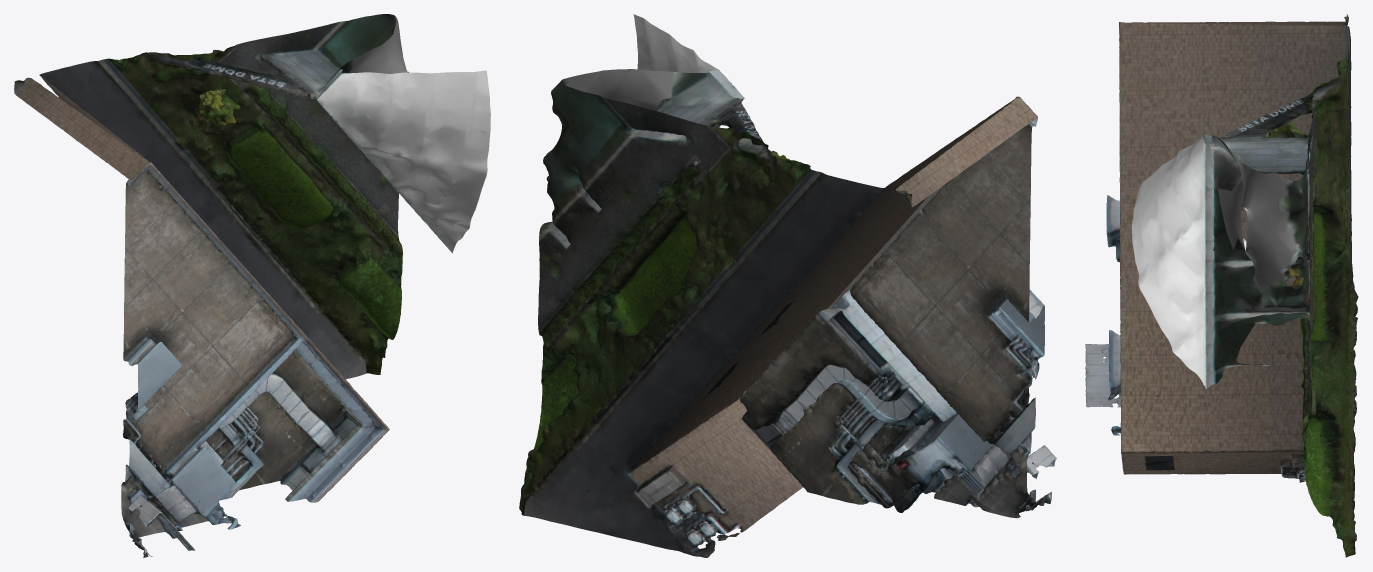
File: Tile_+010_+009.fbx
The picture shows the model from 3 angles, left to right: view 1: azimuth 30°, elevation 25°; view 2: azimuth 150°, elevation 25°; view 3: azimuth 270°, elevation 25°; orthographic projection. The views are drawn at different scales.
Parts seen in each view (by area): view 1: DefaultName; view 2: DefaultName; view 3: DefaultName.
Boxes of the visible parts, left/top/right/bottom form: DefaultName: left=14, top=14, right=490, bottom=557; DefaultName: left=519, top=14, right=1056, bottom=557; DefaultName: left=1085, top=14, right=1358, bottom=557.
Size of the model in its own units: 22.54 by 22.54 by 15.04.
